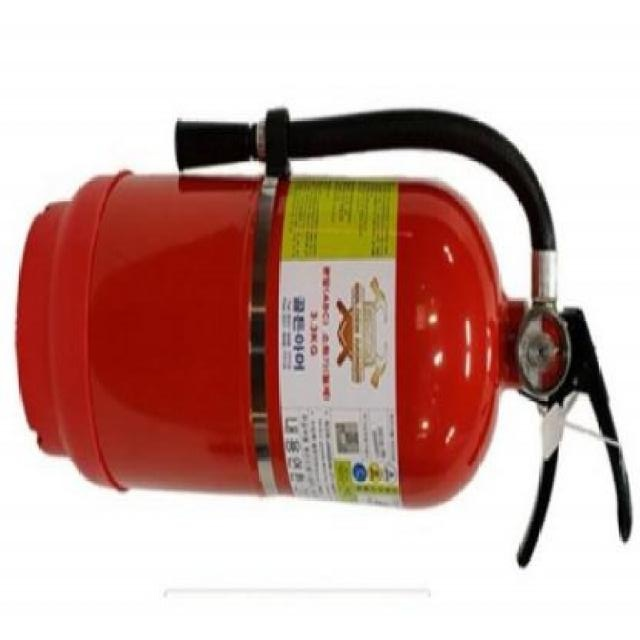fire extinguisher: (15, 107, 633, 570)
